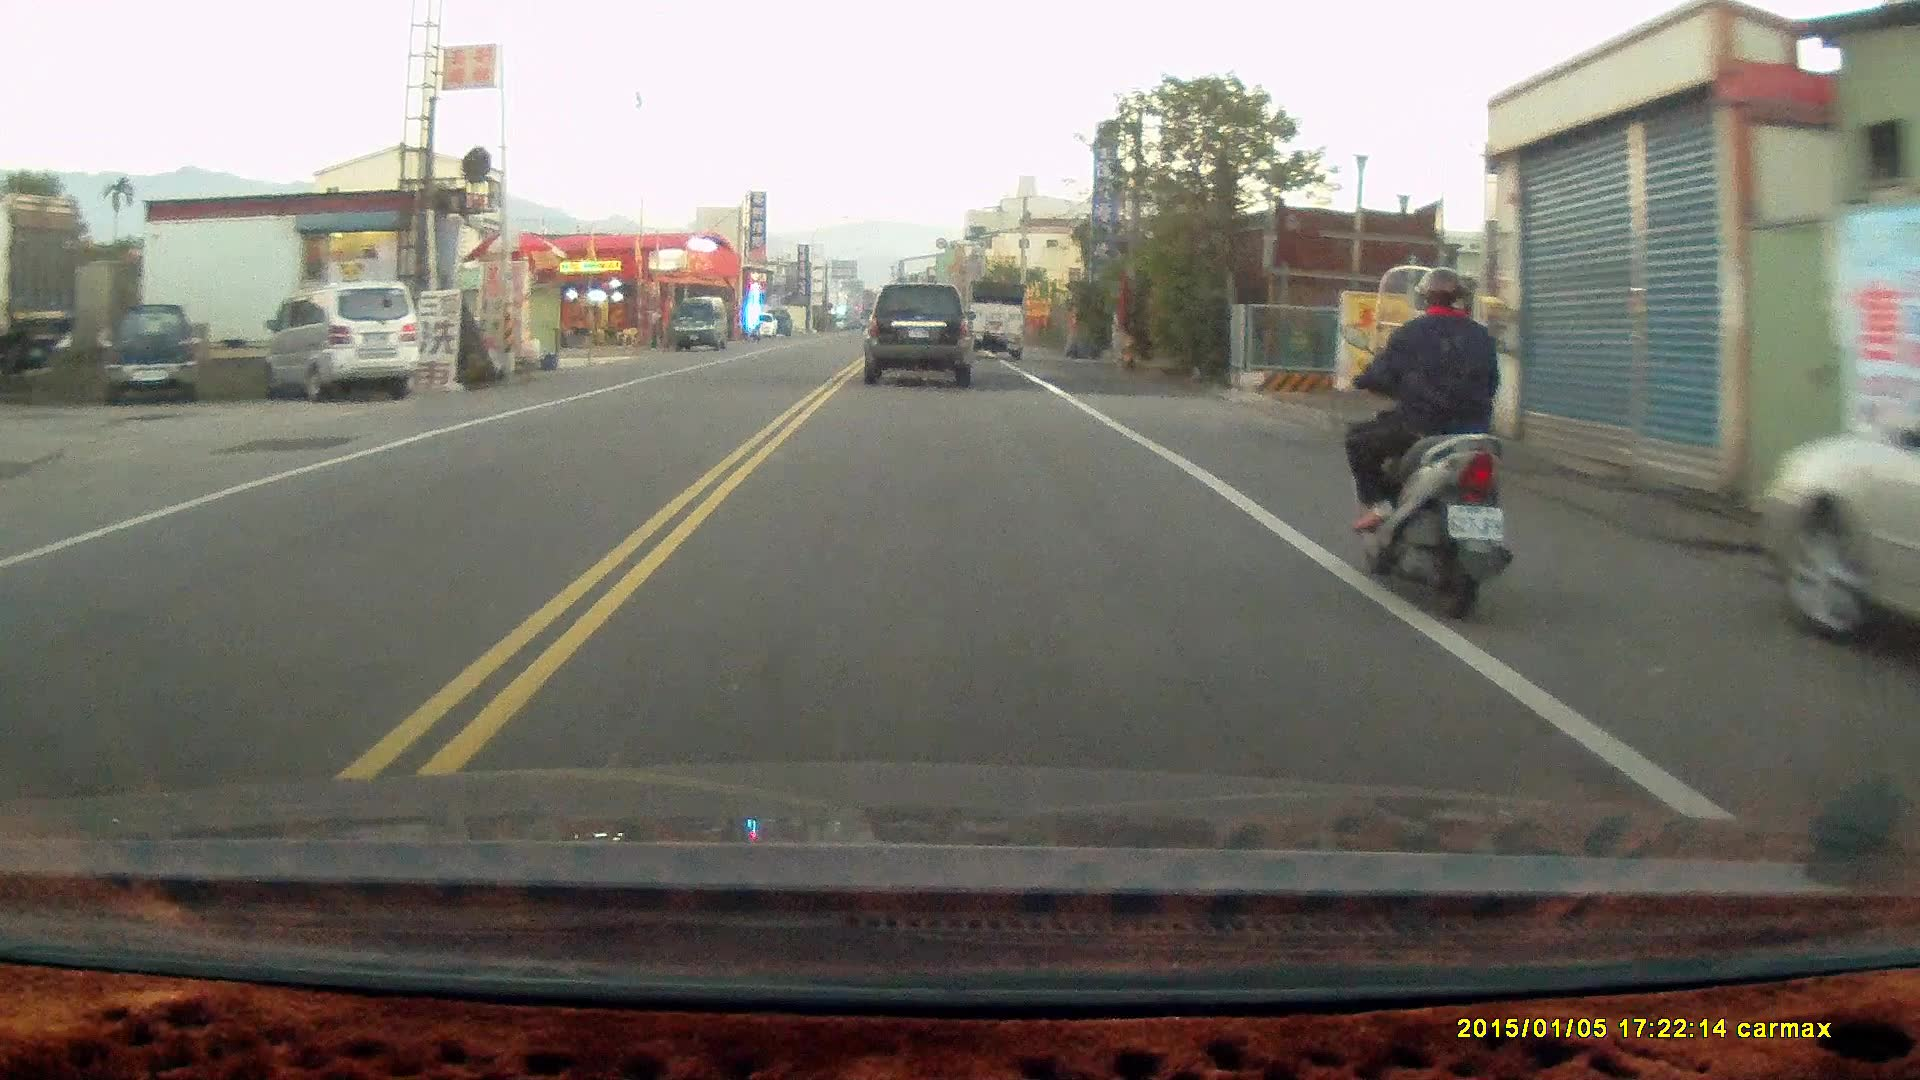rider: (1347, 261, 1519, 619)
vehicle: (1756, 347, 1919, 686), (263, 276, 417, 404), (863, 278, 981, 386), (101, 303, 199, 404), (967, 277, 1028, 357), (671, 296, 728, 348)
